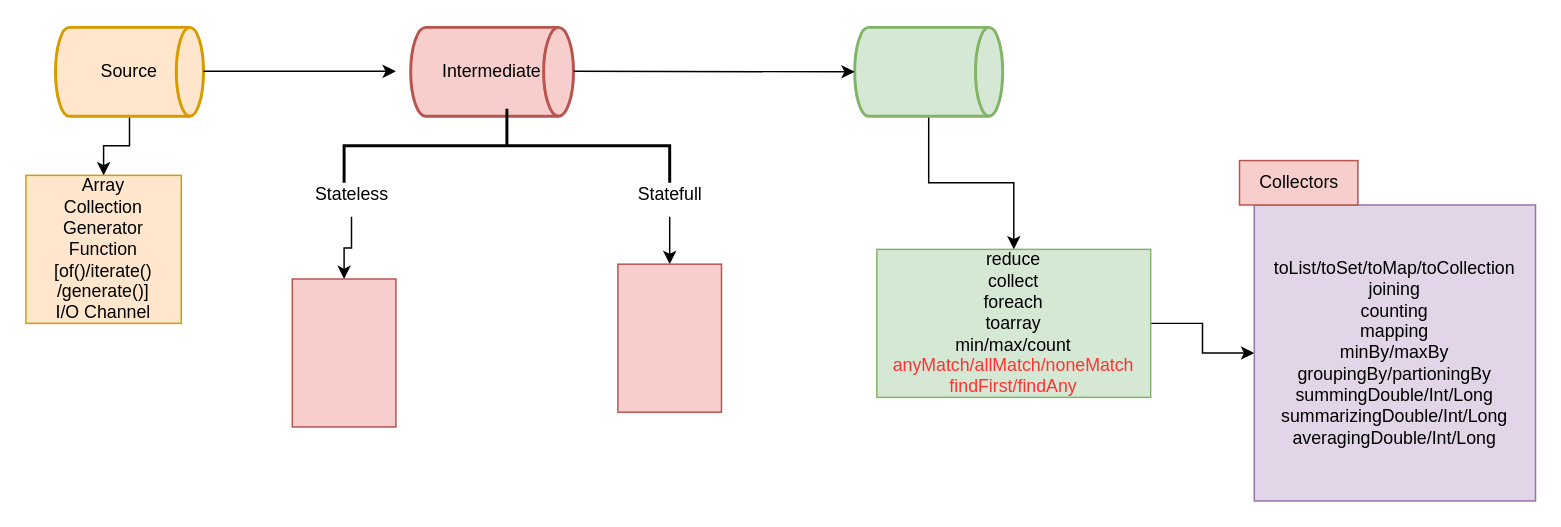
This 1561x527 diagram has some shape labels left out. The centre of each missing label's shape, as x and y in pixels:
filter map flatMap distinct: the point at 343,352
sorted limit skip: the point at 669,337
Terminal: the point at 927,71
